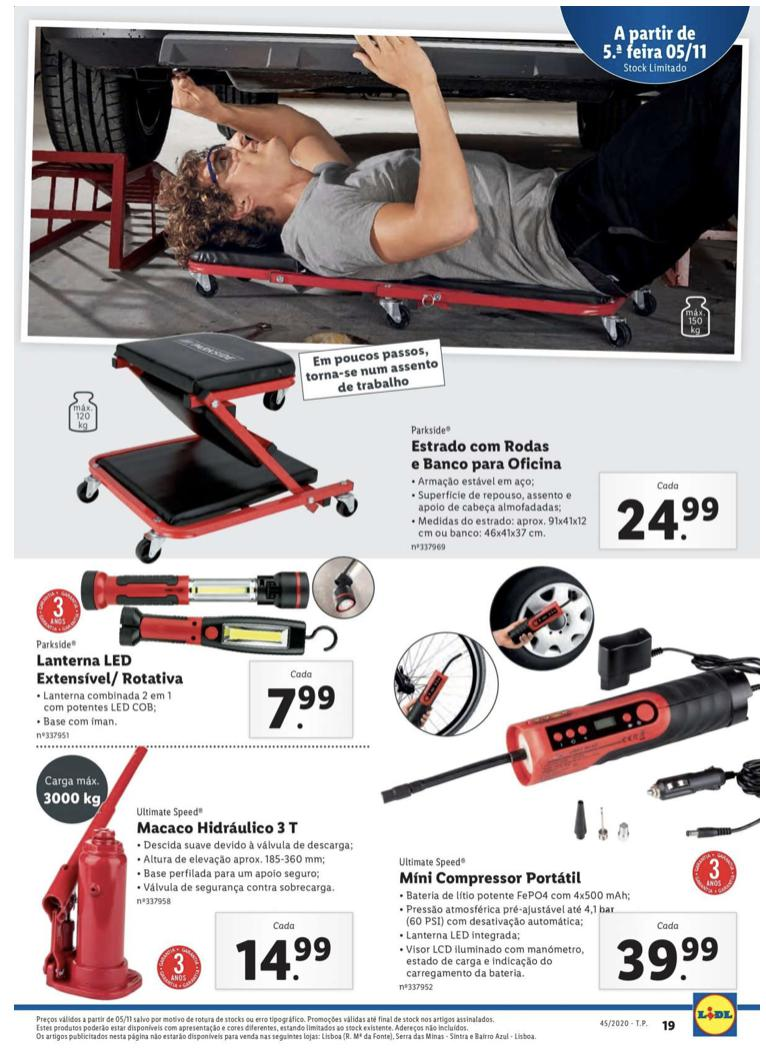name: (33, 651, 192, 690), (407, 438, 568, 474), (396, 869, 586, 890), (134, 818, 303, 838)
price: (612, 490, 721, 544), (611, 931, 720, 985), (233, 933, 336, 986), (267, 681, 338, 733)
product: (25, 20, 753, 559), (383, 572, 762, 1000), (20, 753, 370, 995), (19, 551, 388, 747)
